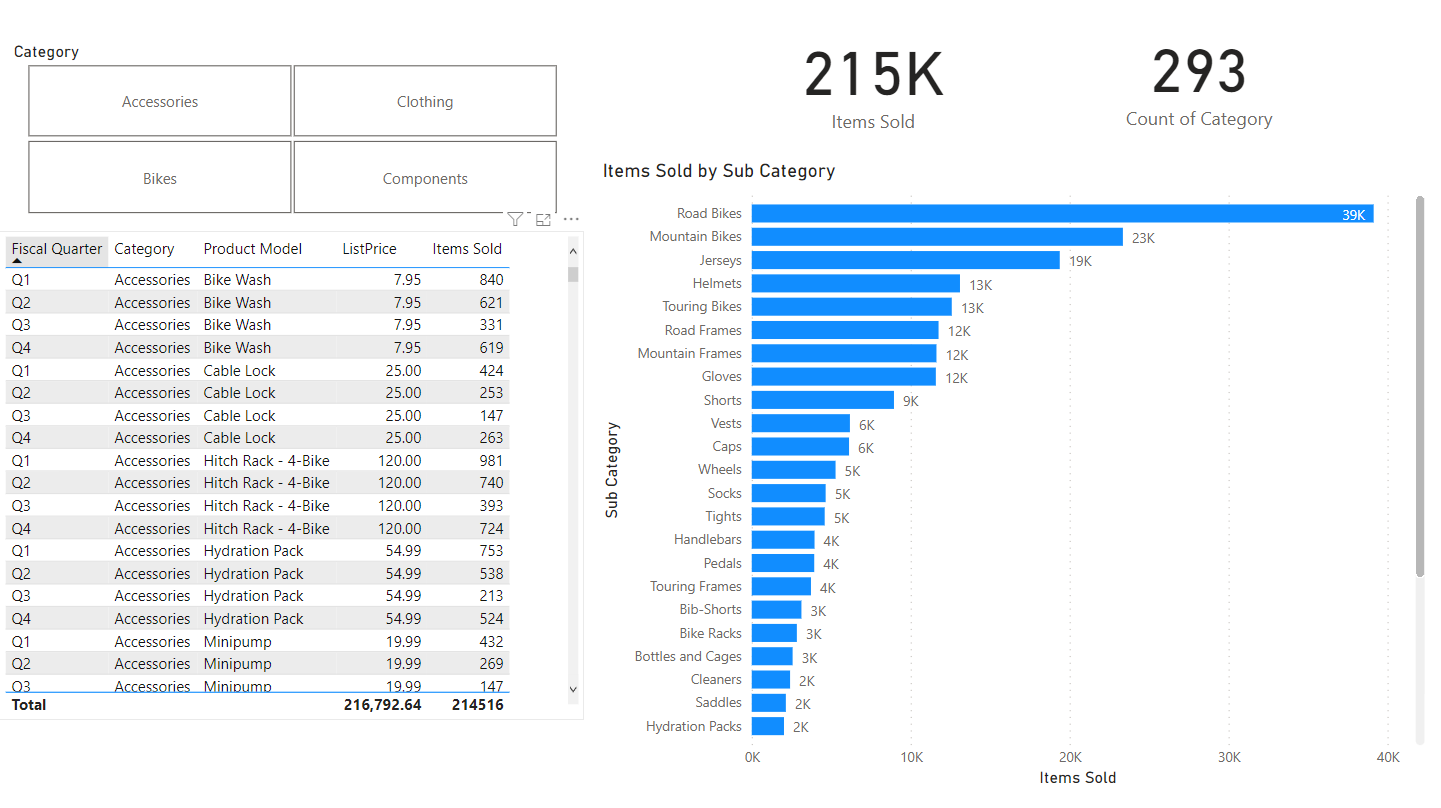

Layout of this report page (visuals, bound fields, positions):
{"tool":"powerbi","page":{"name":"Category items","canvas":[1280,720],"ordinal":3},"visuals":[{"type":"clusteredBarChart","fields":{"Category":["Products.Sub Category"],"Y":["Order_Items.Items Sold"]},"box":[529.6,145.2,737.7,561.5],"z":0},{"type":"slicer","fields":{"Values":["Products.Category"]},"box":[0,37.2,518.1,163],"z":1000},{"type":"tableEx","fields":{"Values":["Calendar.Fiscal Quarter","Products.Category","Products.Product Model","Sum(Products.ListPrice)","Order_Items.Items Sold"]},"box":[0,209,518.1,433.1],"z":2000},{"type":"card","fields":{"Values":["CountNonNull(Products.Category)"]},"box":[925.5,10.6,275.4,120.4],"z":3000},{"type":"card","fields":{"Values":["Order_Items.Items Sold"]},"box":[640.3,15.1,268.3,116],"z":4000}]}

Visuals, with their boxes in screenshot pixels (x1, y1, x2, y2), scaled from the page's 1280x720 canvas onto the 1441x808 screenshot:
clusteredBarChart - Products.Sub Category x Order_Items.Items Sold: [596, 163, 1427, 793]
slicer - Products.Category: [0, 42, 583, 225]
tableEx - Calendar.Fiscal Quarter x Products.Category: [0, 235, 583, 721]
card - CountNonNull(Products.Category): [1042, 12, 1352, 147]
card - Order_Items.Items Sold: [721, 17, 1023, 147]
